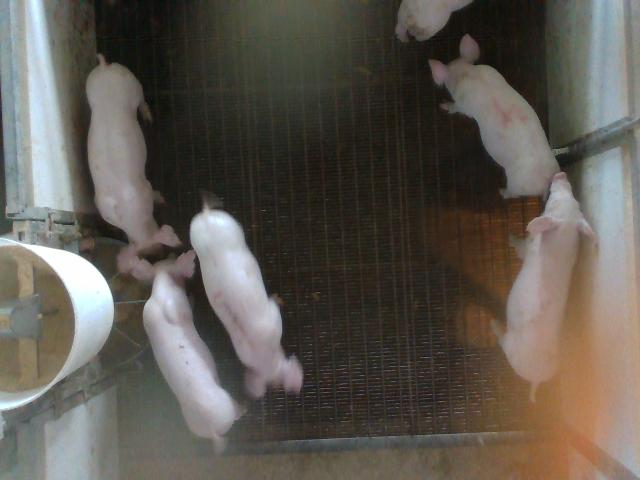pig-3: (190, 200, 302, 398)
pig-4: (429, 35, 560, 198)
